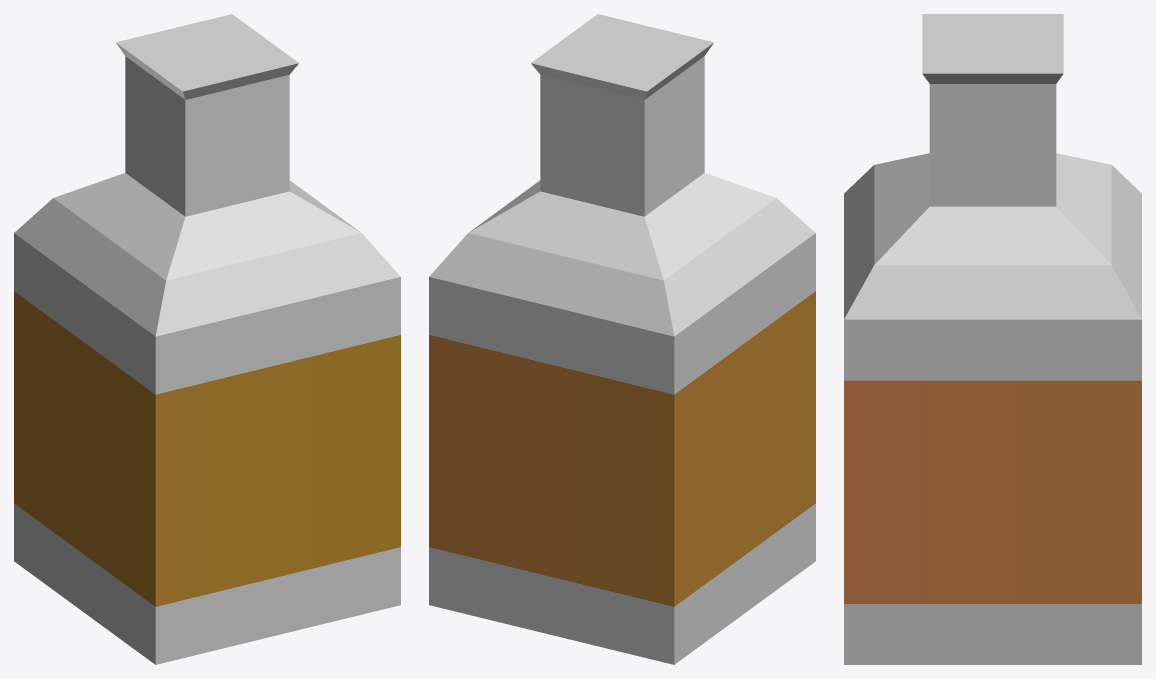
File: B01_bouteille_2_a.fbx
The picture shows the model from 3 angles, left to right: view 1: azimuth 30°, elevation 25°; view 2: azimuth 150°, elevation 25°; view 3: azimuth 270°, elevation 25°; orthographic projection. The views are drawn at different scales.
Parts seen in each view (by area): view 1: B01_bouteille_2_a; view 2: B01_bouteille_2_a; view 3: B01_bouteille_2_a.
Part boxes in pixels (x1,y1,x2,y2): B01_bouteille_2_a: (14, 14, 400, 664); B01_bouteille_2_a: (429, 14, 815, 664); B01_bouteille_2_a: (844, 14, 1141, 664).
Bounding box in the file's own units: 10.81 × 22.35 × 10.81.
